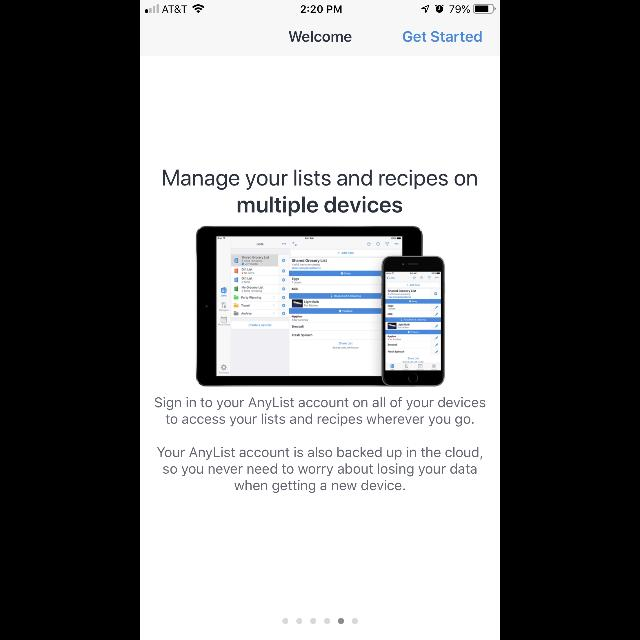image: (196, 226, 446, 387)
pageindicator: (282, 618, 358, 624)
text: (158, 447, 482, 493), (163, 170, 477, 217), (154, 397, 486, 427), (402, 32, 482, 42), (288, 32, 352, 42)
uppertaskbar: (140, 0, 500, 14)
